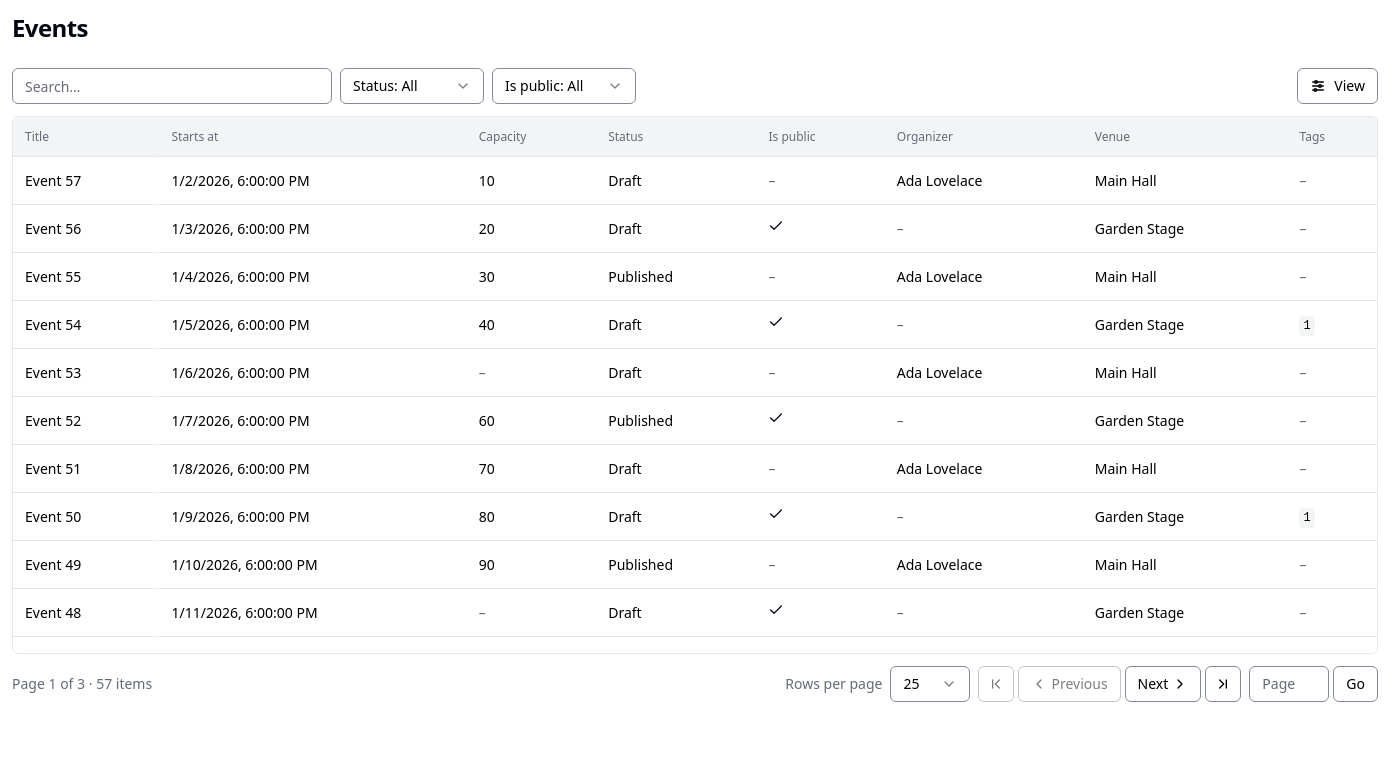
Scenario: ResourceTable target usage (full stack) › renders a populated sortable paginated table from <Page><ResourceTable/></Page>
Check: the heading "Events" is shown, box [12,12,88,44]
Check: the row that starts with "Event 57" is shown, box [25,170,81,190]
Sortable: a header click maps to the DRF ordering param server-side.
Click the button "Title": (37, 136) [25,128,49,144]
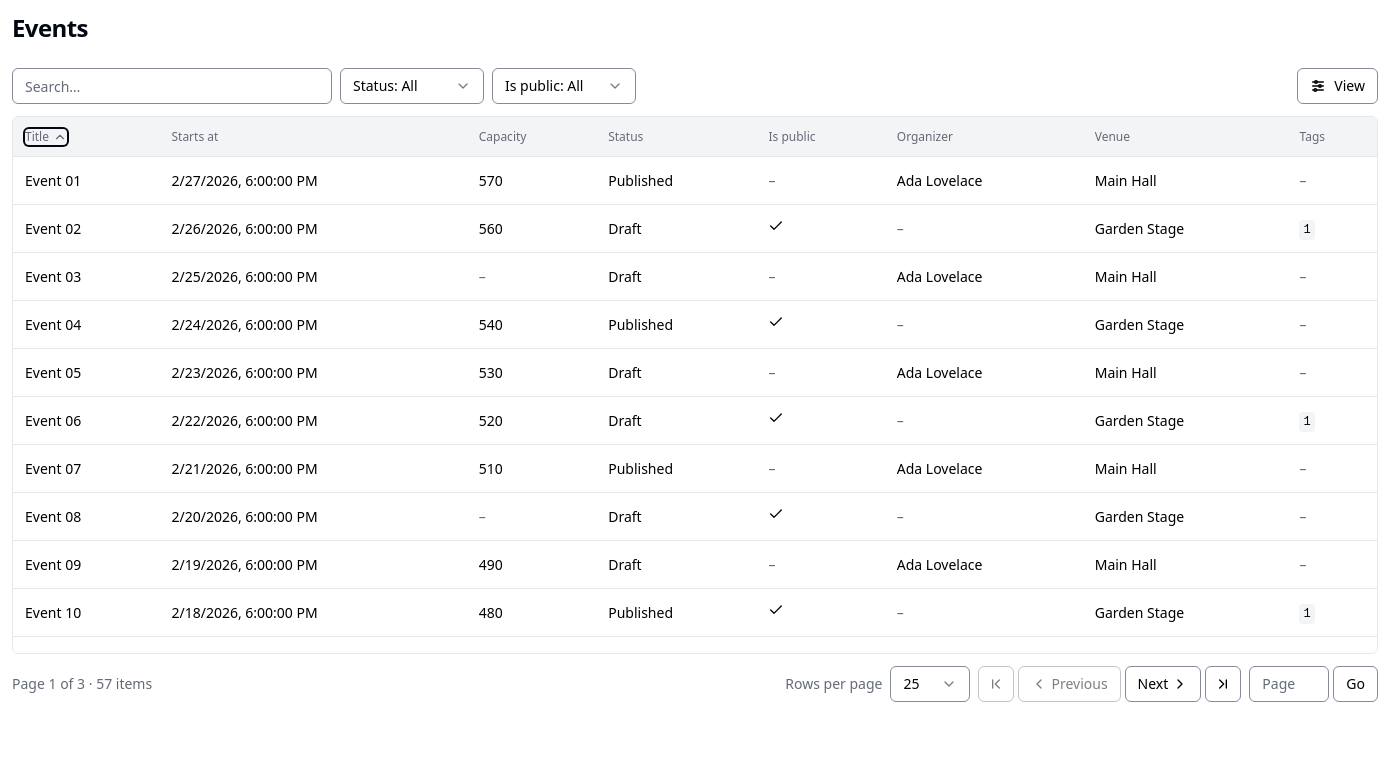
Check: the row that starts with "Event 01" is shown, box [25,170,81,190]
Paginated: Next requests page 2 of the sorted list.
Click the button "Next": (1163, 684) [1125,666,1201,702]
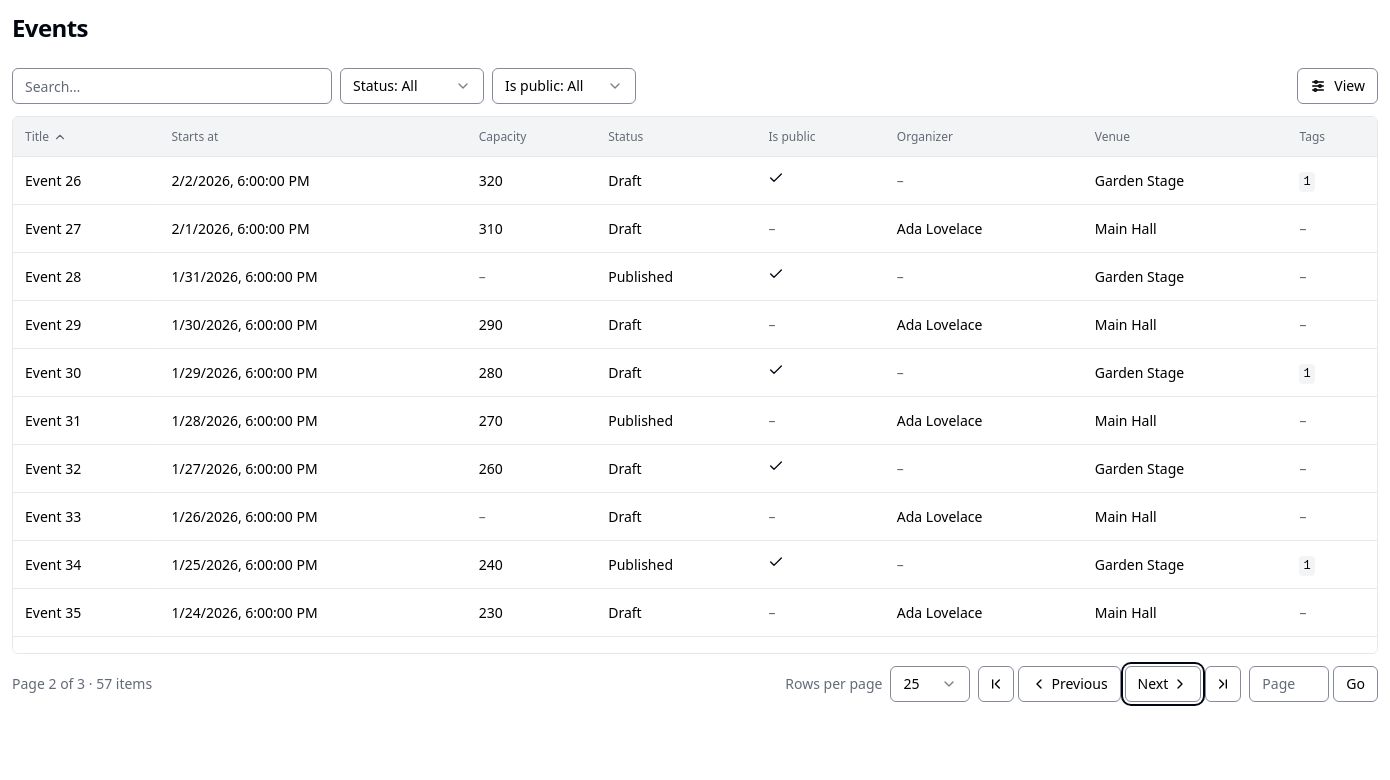
Check: the text "Page 2 of 3 · 57 items" is shown, box [12,674,152,694]
Check: the row "Event 26 2/2/2026, 6:00:00 PM 320 Draft – Garden Stage 1" is shown, box [13,157,1377,205]
